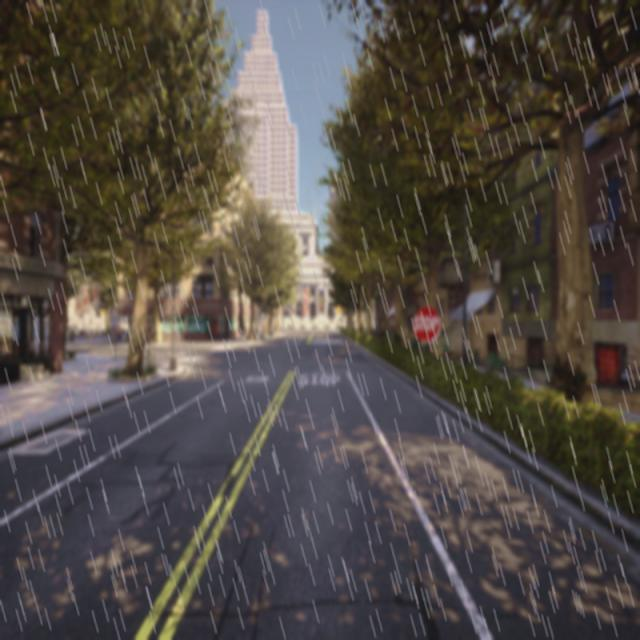stop sign: (409, 302, 443, 347)
